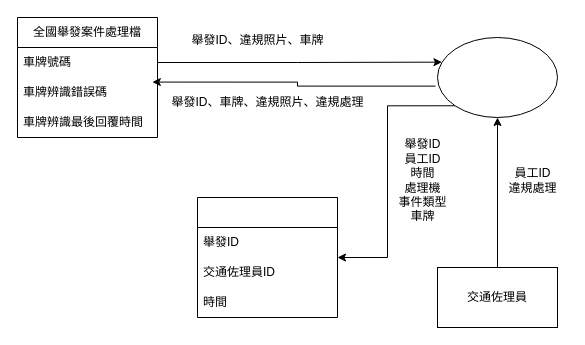
Some shapes in this 585 by 345 pixel diagram are drawn without their labels. The shapes that lost their labels are listed below. From the top down, each one's box as (x1, y1, x2, y2) in pixels, then its label:
(436, 36, 558, 118): 人機介面
(196, 196, 338, 318): 人工辨識紀錄Log
